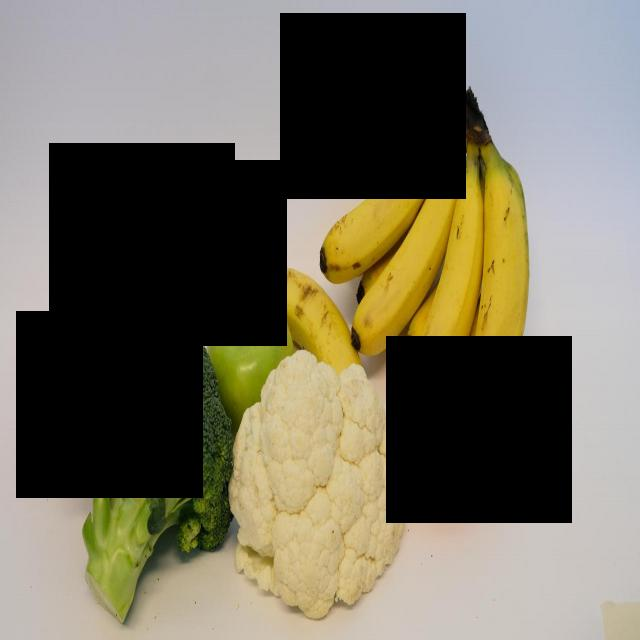apple: (29, 296, 125, 464), (205, 284, 291, 424)
banana: (348, 175, 460, 368), (310, 115, 446, 268), (248, 262, 368, 405), (414, 172, 488, 400), (481, 155, 527, 407)
broccoli: (63, 323, 233, 632)
cauliflower: (221, 352, 407, 622)
tomato: (401, 372, 499, 507)
